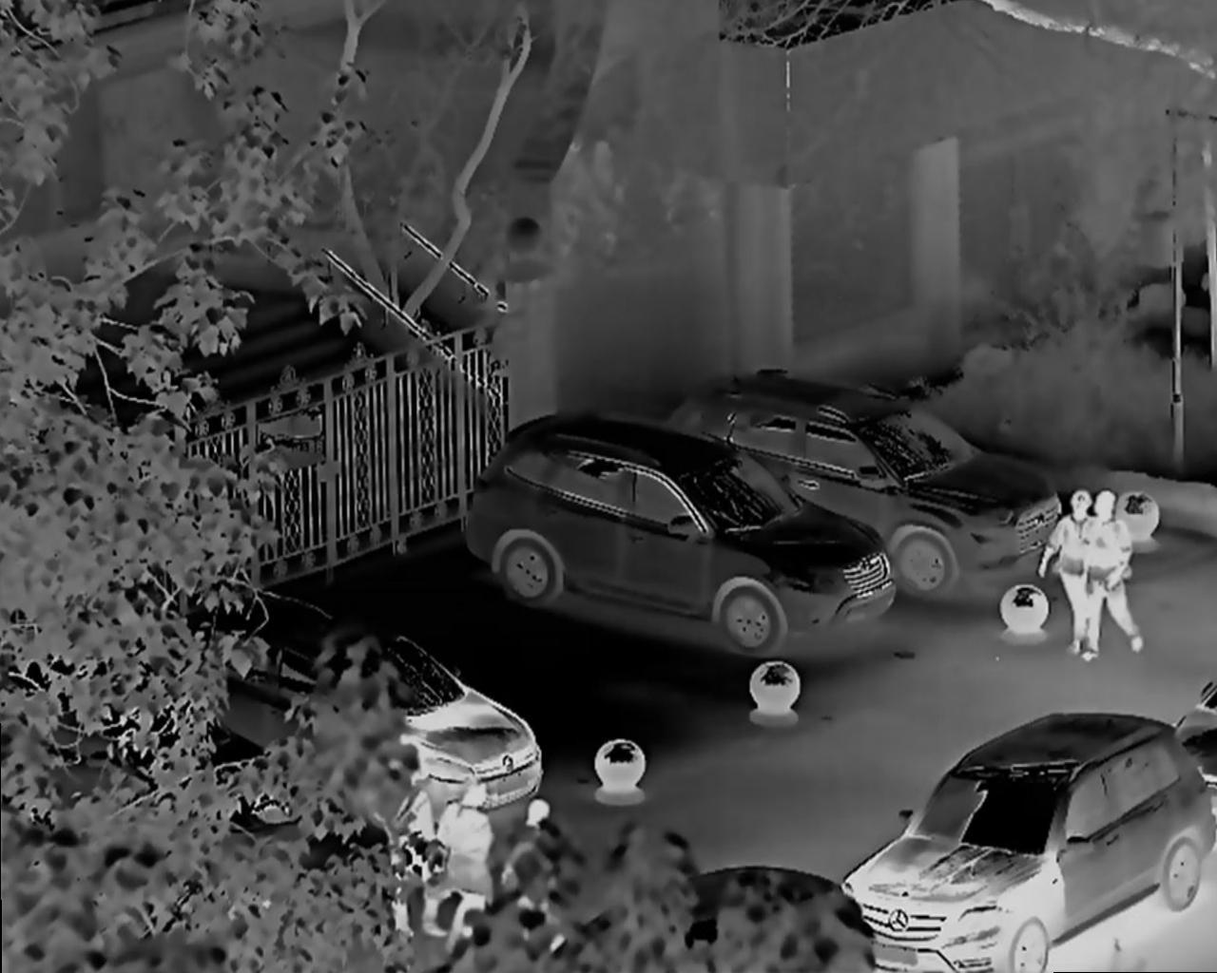person: (1073, 490, 1135, 664), (438, 776, 498, 918), (511, 803, 569, 948), (1043, 491, 1087, 672)
